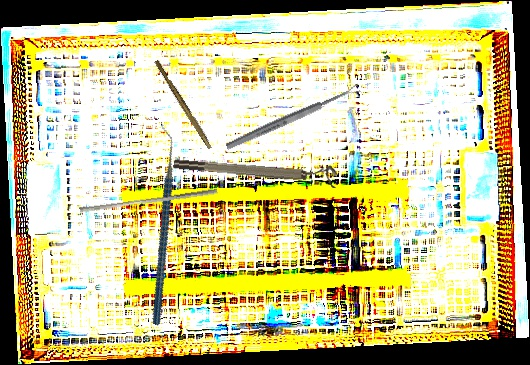Chopper: (85, 123, 235, 327)
Fixation Ring: (172, 149, 339, 189)
Pusher: (79, 183, 218, 218)
Scalpel Handle: (152, 59, 215, 150)
Surgical Spoon: (224, 83, 362, 152)
